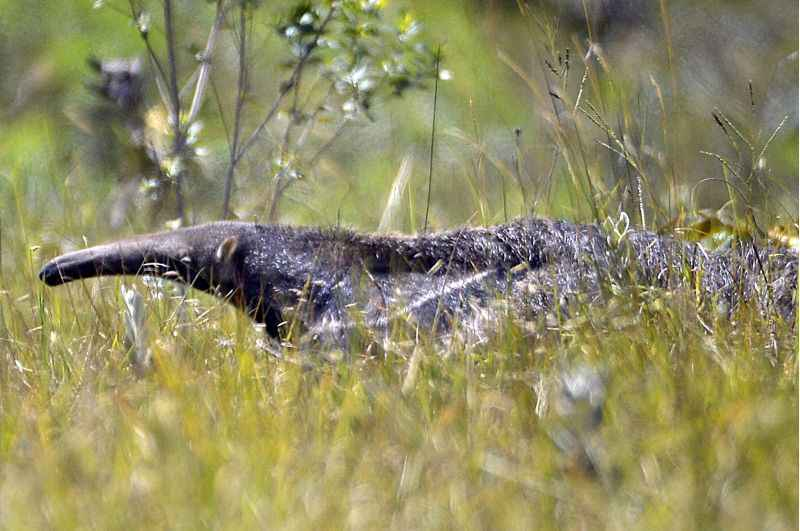TamanduaBandeira: (34, 215, 784, 377)
